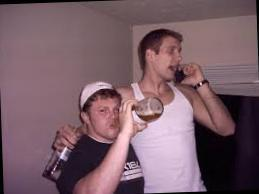Drunk: (91, 97, 122, 138), (161, 34, 182, 80)
